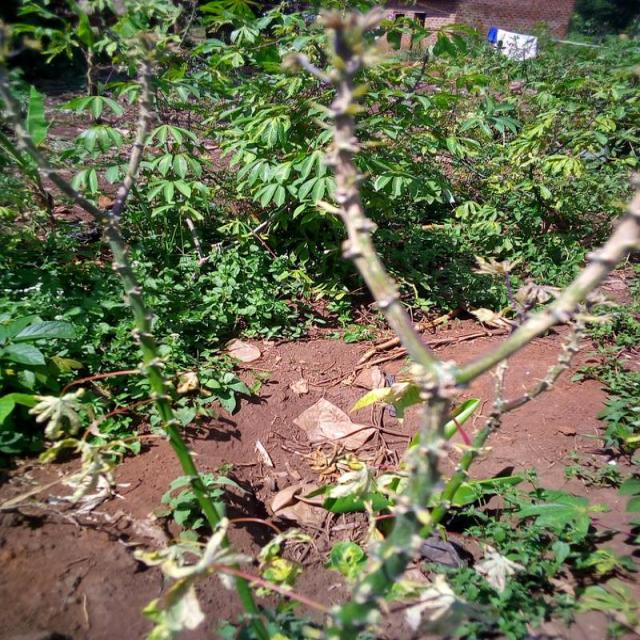cassava leaf: (292, 396, 376, 452)
